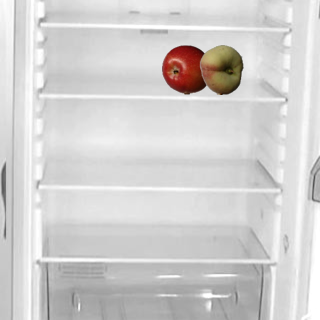Apple Braeburn: (161, 44, 211, 94)
Peach Flat: (196, 44, 246, 94)
